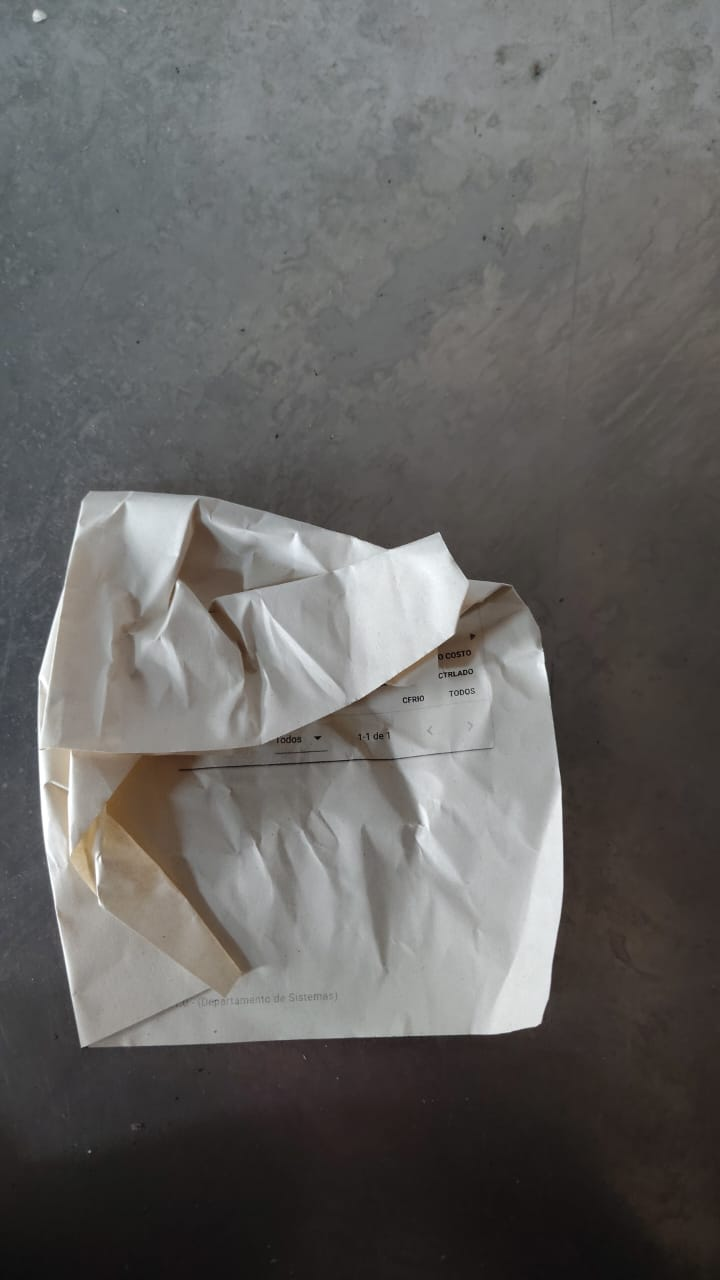Papel: (36, 487, 564, 1048)
